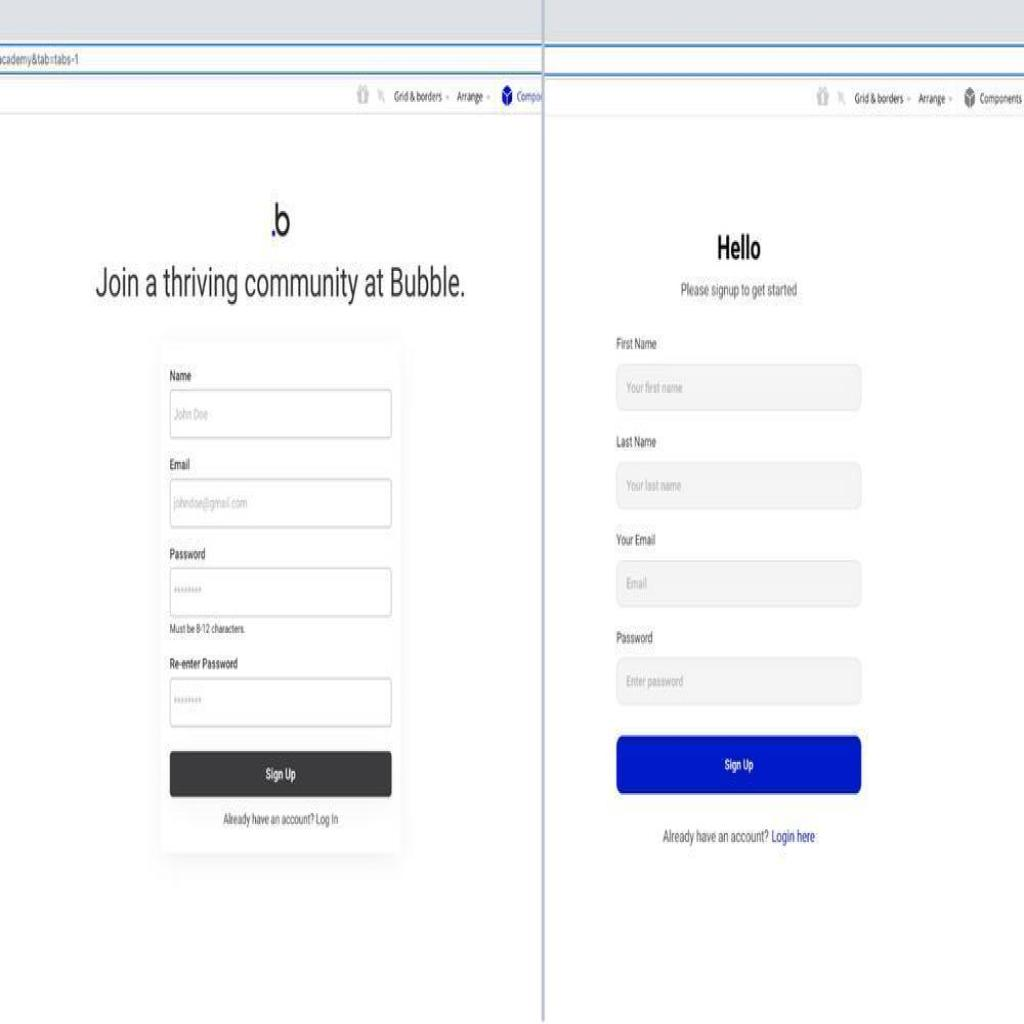button: (616, 735, 862, 793), (169, 751, 393, 800)
icon: (811, 84, 831, 111), (352, 84, 371, 111), (963, 84, 979, 114), (835, 87, 851, 115), (501, 80, 515, 111), (374, 85, 388, 113)
input: (616, 358, 862, 418), (616, 456, 864, 513), (616, 555, 864, 611), (614, 655, 864, 709), (169, 673, 393, 733), (168, 386, 393, 444), (168, 477, 394, 531), (167, 566, 394, 618)
label: (168, 618, 246, 642), (169, 651, 239, 671), (616, 527, 658, 553), (616, 331, 660, 351), (614, 626, 654, 646), (168, 544, 206, 564), (614, 431, 656, 449), (169, 455, 192, 473), (169, 367, 191, 382)
